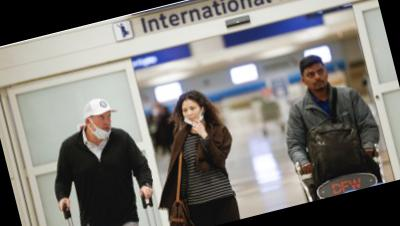mask_weared_incorrect: (88, 111, 116, 137), (181, 102, 205, 126)
without_mask: (303, 64, 330, 92)
